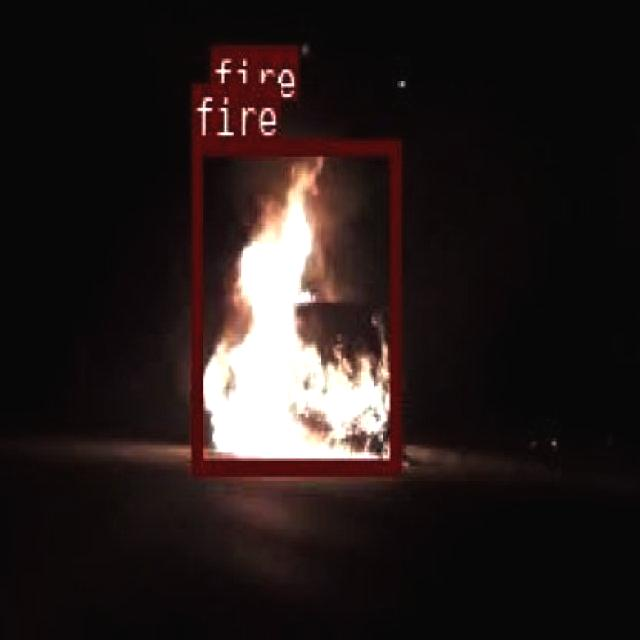fire: (190, 138, 398, 470), (210, 43, 278, 111)
